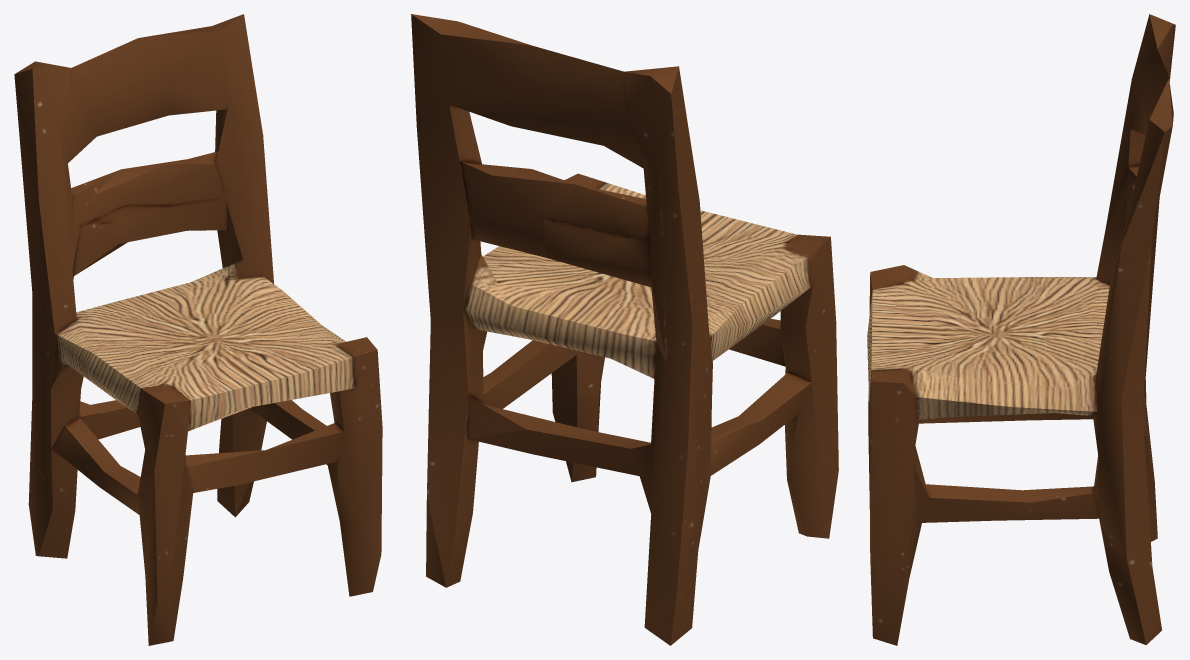
Rendered from italian-dining-chair.glb.
3 views of the same model, side by side, from view 1: azimuth 30°, elevation 25°; view 2: azimuth 150°, elevation 25°; view 3: azimuth 270°, elevation 25° (orthographic). The views are drawn at different scales.
Parts seen in each view (by area): view 1: geometry_0; view 2: geometry_0; view 3: geometry_0.
Boxes of the visible parts, box(x1,y1,x2,y2) form: geometry_0: box(14, 14, 382, 645); geometry_0: box(411, 14, 838, 645); geometry_0: box(867, 14, 1175, 645).
Size of the model in its own units: 0.4914 by 1 by 0.5337.
1 material, 1 textured.
